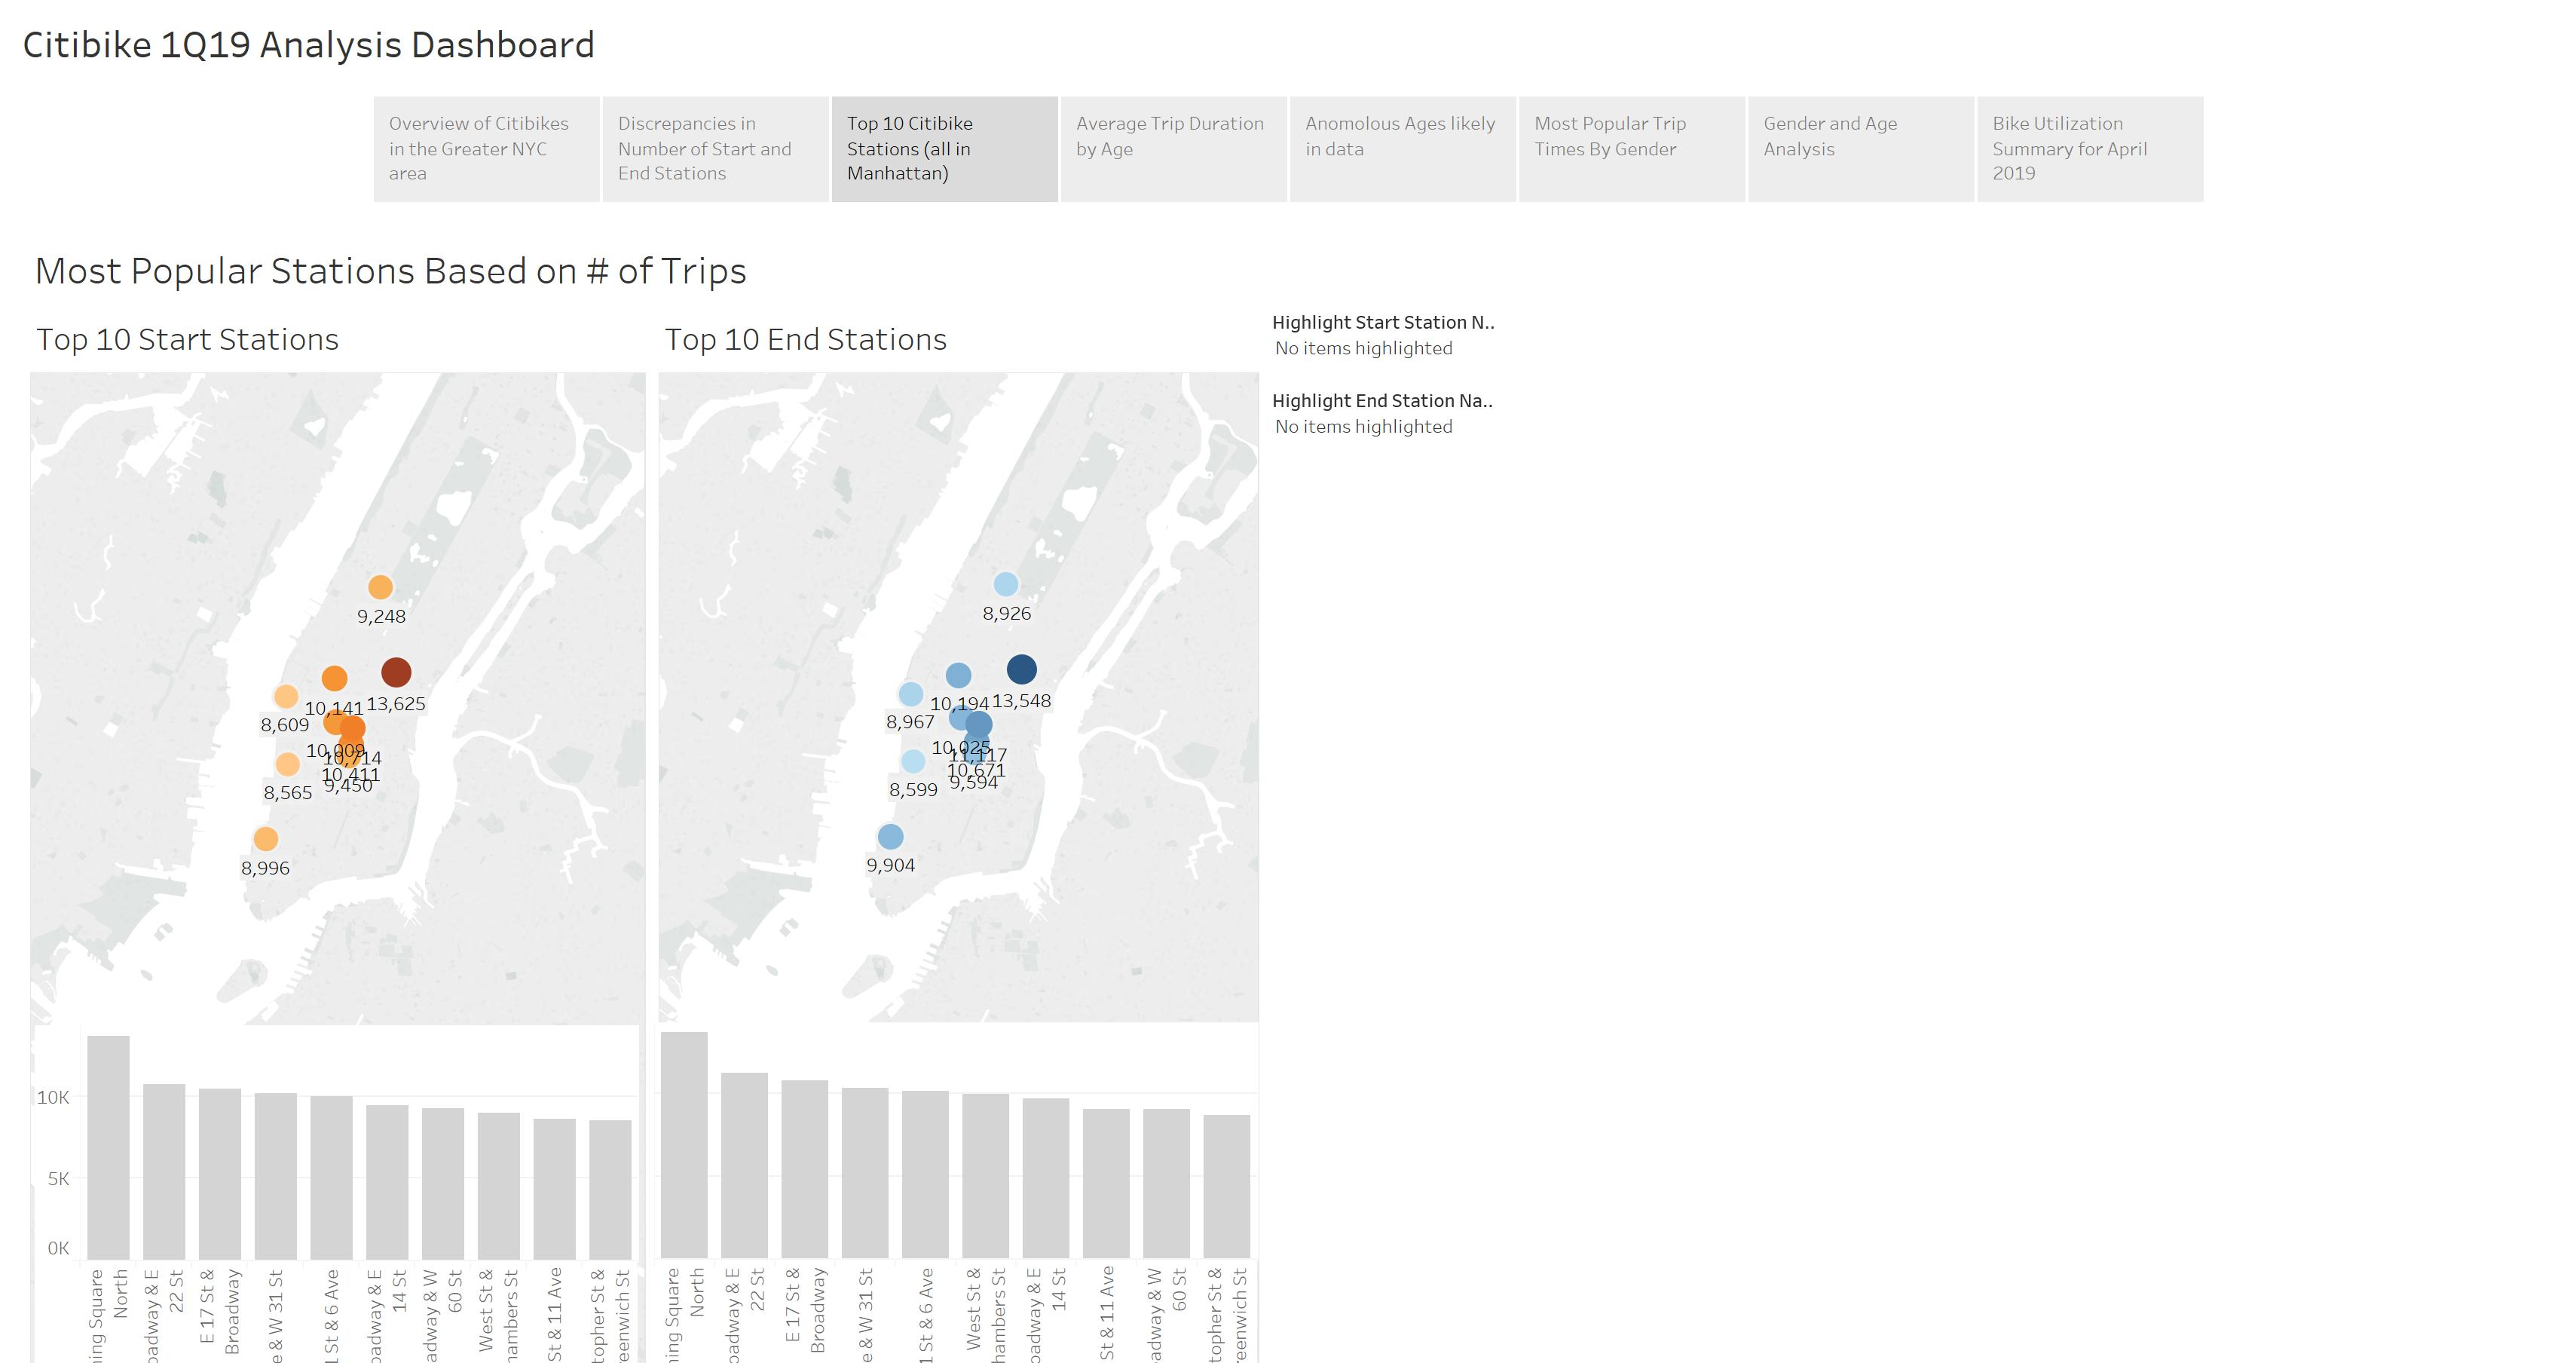

This screenshot's page, from the dashboard's own definition file:
{"tool":"tableau","page":{"name":"Top 10 Start and End Stations","canvas":[1000,800],"ordinal":4},"visuals":[{"type":"title","box":[8,8,984,42]},{"type":"worksheet","title":"Top Start Stations","mark":"Automatic","rows":["start station latitude"],"cols":["start station longitude"],"box":[8,50,417,742]},{"type":"worksheet","title":"Top End Stations","mark":"Automatic","rows":["end station latitude"],"cols":["end station longitude"],"box":[425,50,407,742]},{"type":"highlighter","title":"Top Start Stations","param":"[federated.0grz1eo1pkrk0v1ddi04d011alyu].[none:start station name:nk]","box":[832,50,160,52]},{"type":"highlighter","title":"Top End Stations","param":"[federated.0grz1eo1pkrk0v1ddi04d011alyu].[none:end station name:nk]","box":[832,102,160,52]},{"type":"worksheet","title":"Bar End Stations","mark":"Automatic","rows":["Number of Records"],"cols":["end station name"],"box":[426,528,400,257]},{"type":"worksheet","title":"Bar Start Stations","mark":"Automatic","rows":["Number of Records"],"cols":["start station name"],"box":[15,530,400,256]}]}

Visuals, with their boxes on the page's 1000x800 design canvas (x1, y1, x2, y2). These are canvas units, not pixel positions in the 2576x1363 screenshot, which may show the page scaled, cropped or inside an application window:
title: Rect(8, 8, 992, 50)
"Top Start Stations" worksheet: Rect(8, 50, 425, 792)
"Top End Stations" worksheet: Rect(425, 50, 832, 792)
"Top Start Stations" highlighter: Rect(832, 50, 992, 102)
"Top End Stations" highlighter: Rect(832, 102, 992, 154)
"Bar End Stations" worksheet: Rect(426, 528, 826, 785)
"Bar Start Stations" worksheet: Rect(15, 530, 415, 786)
